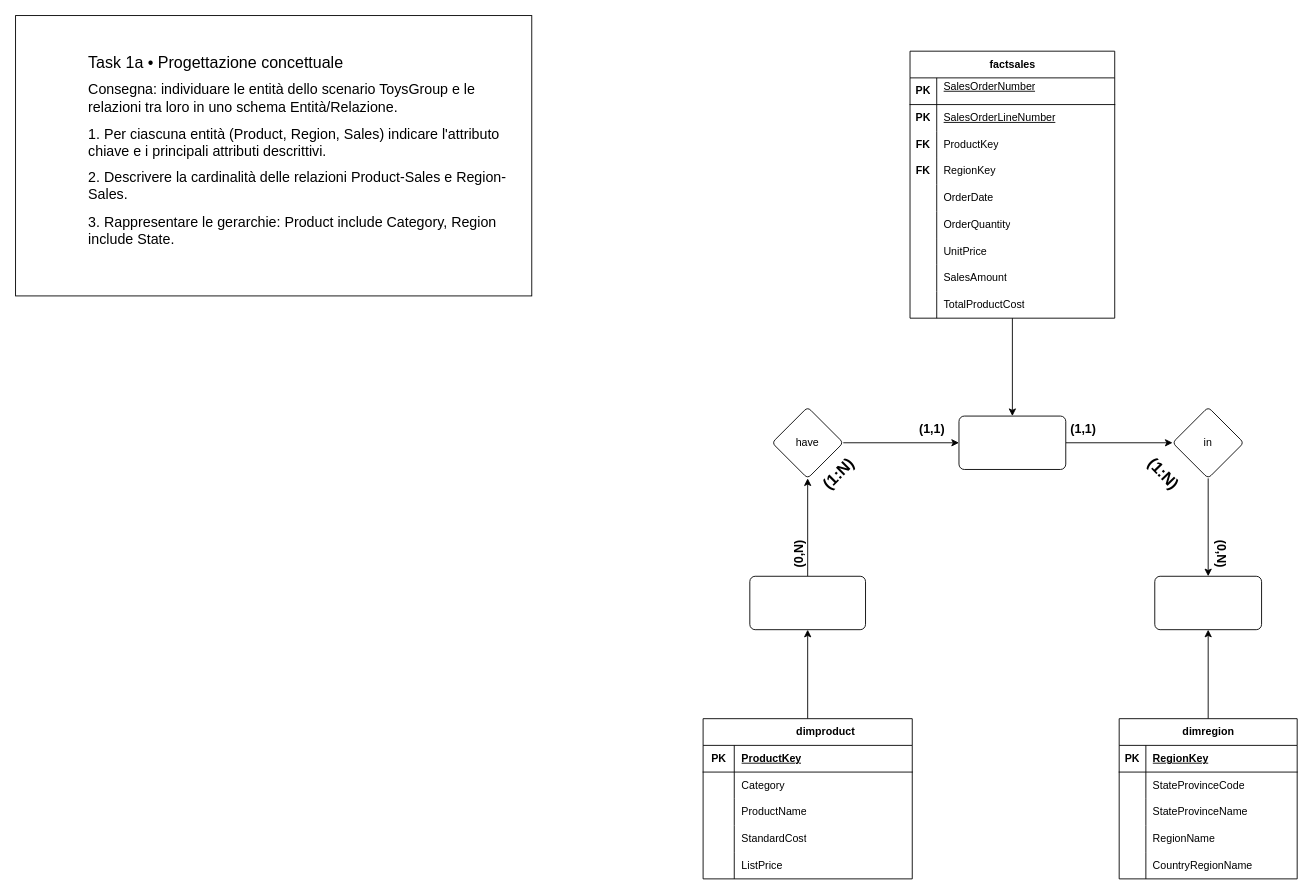
Image size: 1313x894. Some labels were removed from this diagram. The shapes that lost their labels are listed below. From the top down, each one's centre as x and y in pixels, then its label:
At (x=1012, y=442): "Sales".
At (x=807, y=602): "Product".
At (x=1208, y=602): "Region".
